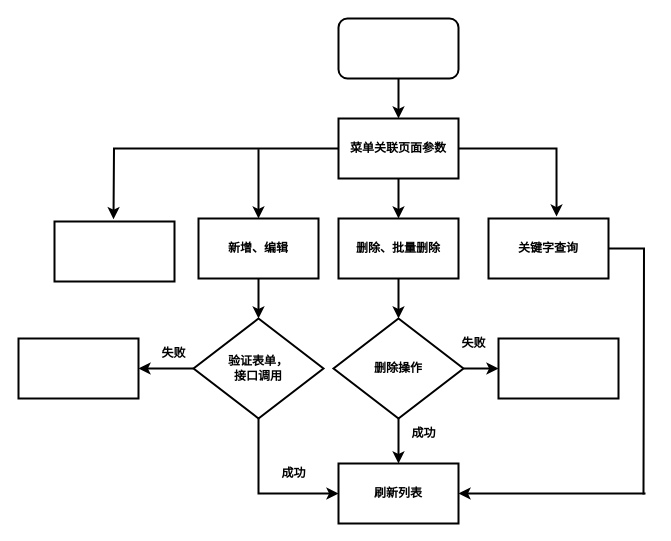
Image size: 671x541. Some labels were removed from this diagram. Each missing label, with the box of its shape:
失败提示: (497, 337, 619, 399)
开始: (337, 17, 459, 79)
提示信息: (17, 337, 139, 399)
插件、window、自定义参数设置: (53, 220, 175, 282)
